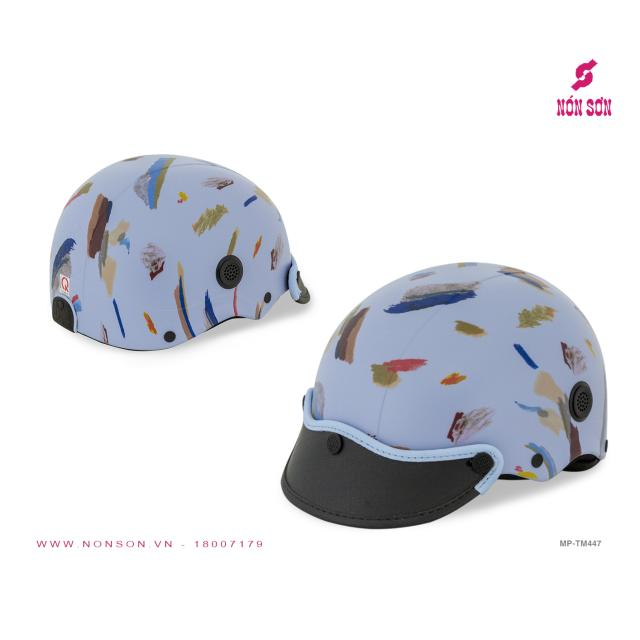Helmet: (279, 258, 611, 530)
